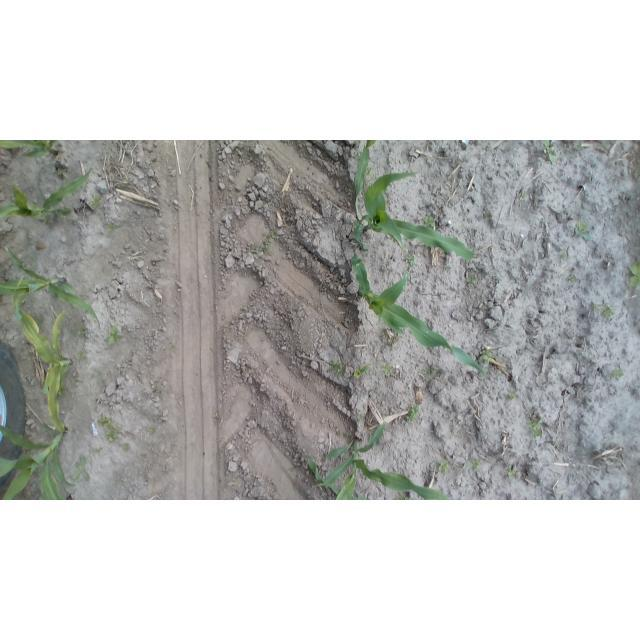Maize: (348, 250, 487, 383), (304, 418, 452, 500), (351, 170, 474, 259), (2, 244, 103, 327), (19, 309, 73, 435), (1, 425, 78, 499), (1, 168, 92, 224), (354, 141, 375, 217), (0, 140, 60, 157)
Weeds: (539, 140, 561, 165), (589, 302, 615, 321), (73, 459, 91, 482), (628, 259, 640, 289), (477, 349, 497, 367), (328, 359, 345, 379), (575, 222, 592, 241), (354, 363, 373, 380), (530, 417, 545, 438), (466, 269, 480, 289), (107, 325, 121, 344), (405, 404, 420, 421), (422, 366, 440, 379), (247, 243, 270, 253), (608, 367, 624, 381), (105, 427, 119, 441), (97, 413, 110, 427), (469, 458, 481, 472), (380, 364, 392, 376), (438, 461, 451, 472), (404, 255, 416, 266), (265, 231, 275, 244), (424, 214, 434, 226), (76, 350, 86, 361), (56, 172, 68, 181), (121, 444, 131, 453), (92, 195, 101, 205), (508, 468, 517, 477), (561, 249, 568, 259), (569, 274, 576, 282), (107, 222, 114, 230), (509, 392, 516, 400), (521, 194, 528, 201), (91, 448, 101, 452), (149, 428, 156, 433), (214, 416, 219, 421)
